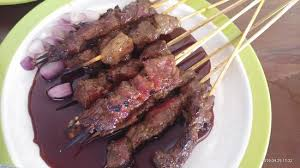sate: (21, 2, 224, 168)
